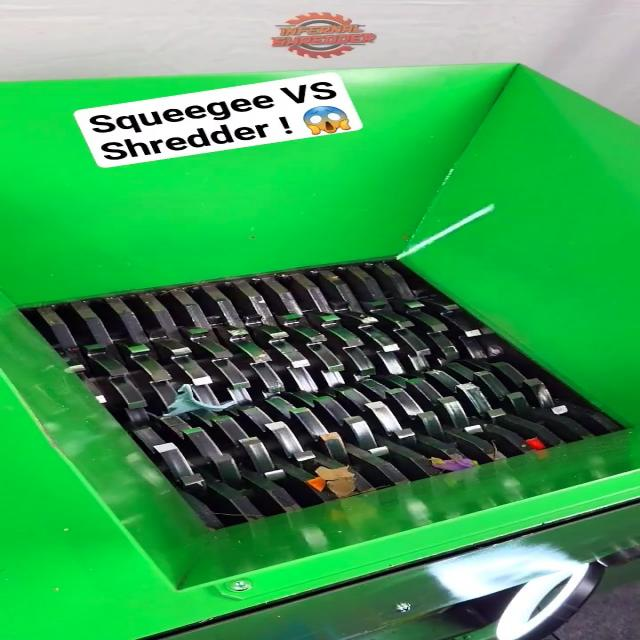Broyeur: (0, 243, 640, 542)
